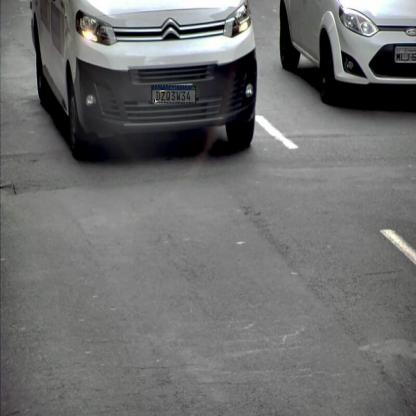PlacaM: (151, 86, 196, 104)
